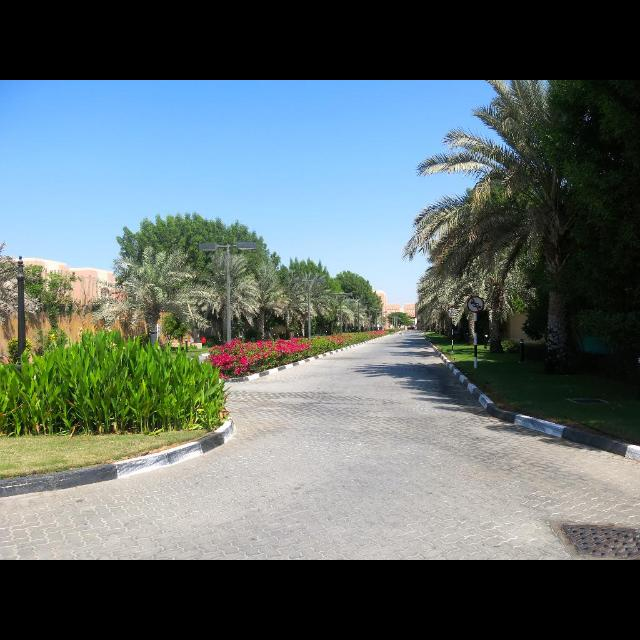Flower: (203, 337, 293, 379), (297, 333, 349, 355), (372, 328, 388, 337), (49, 332, 57, 342)
